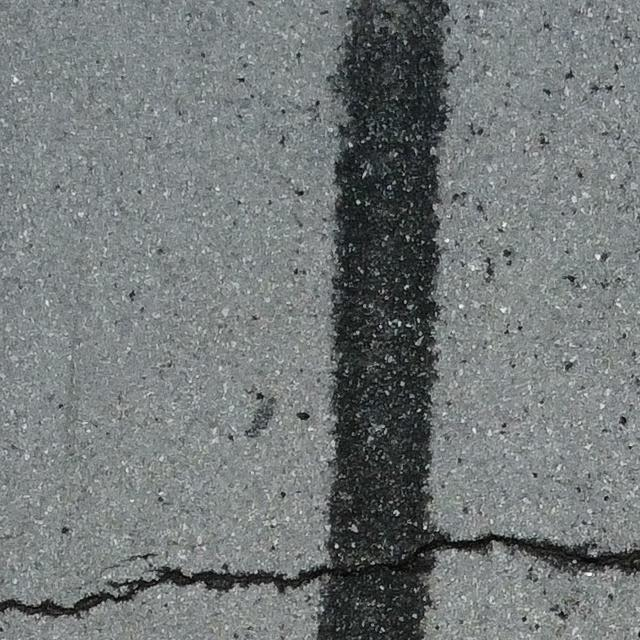TransverseCrack: (1, 529, 640, 620)
